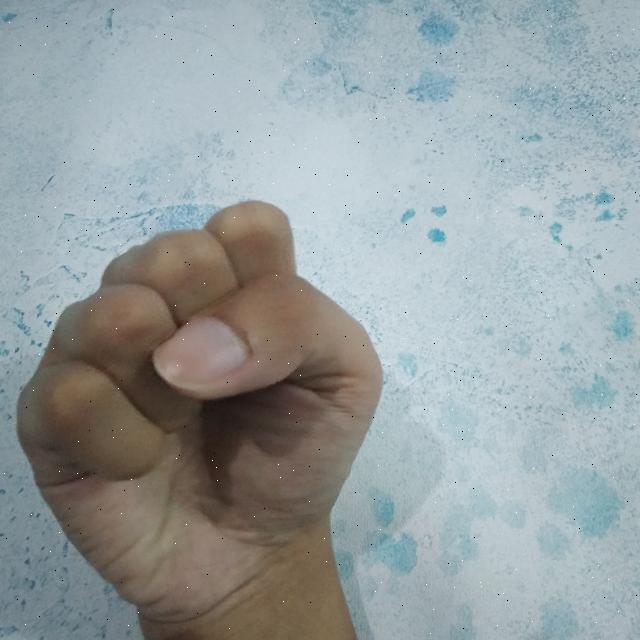S: (10, 191, 389, 640)
